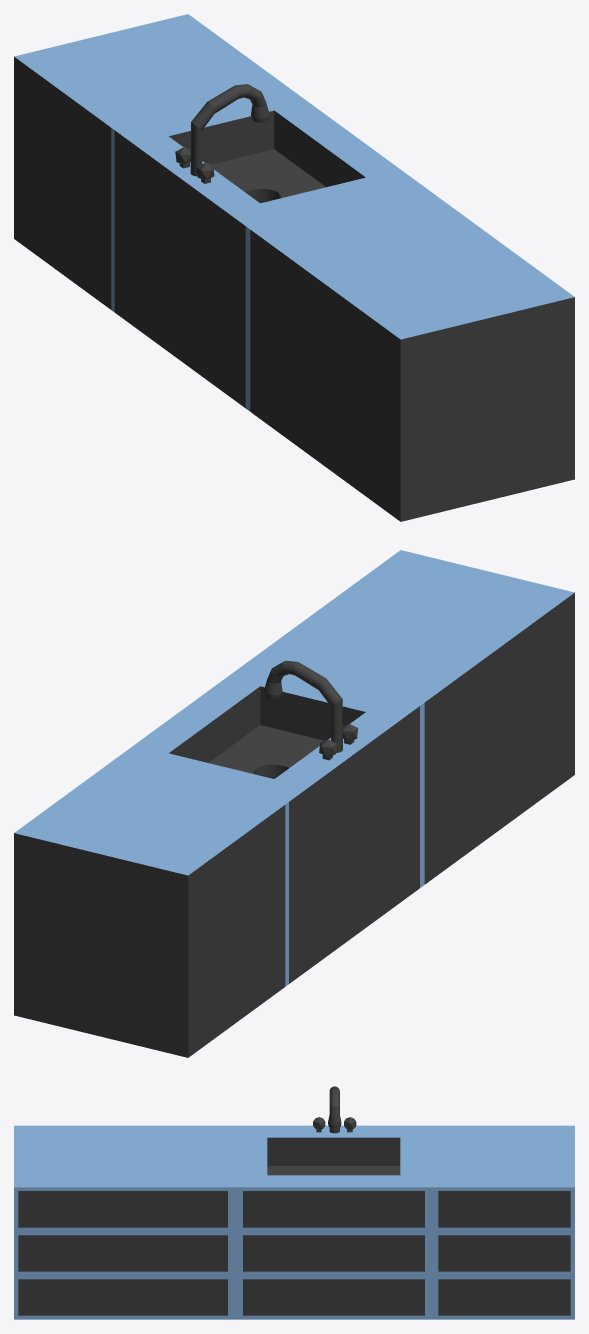
Rendered from kuhni.fbx.
3 views of the same model, one above another, from view 1: azimuth 30°, elevation 25°; view 2: azimuth 150°, elevation 25°; view 3: azimuth 270°, elevation 25° (orthographic). The views are drawn at different scales.
Visible parts, largest first — view 1: Cube.002; view 2: Cube.002; view 3: Cube.002.
Boxes of the visible parts, x1,y1,x2,y2 form: Cube.002: [14, 14, 574, 521]; Cube.002: [14, 550, 574, 1057]; Cube.002: [14, 1086, 574, 1319].
Bounding box in the file's own units: 200 × 286 × 769.
